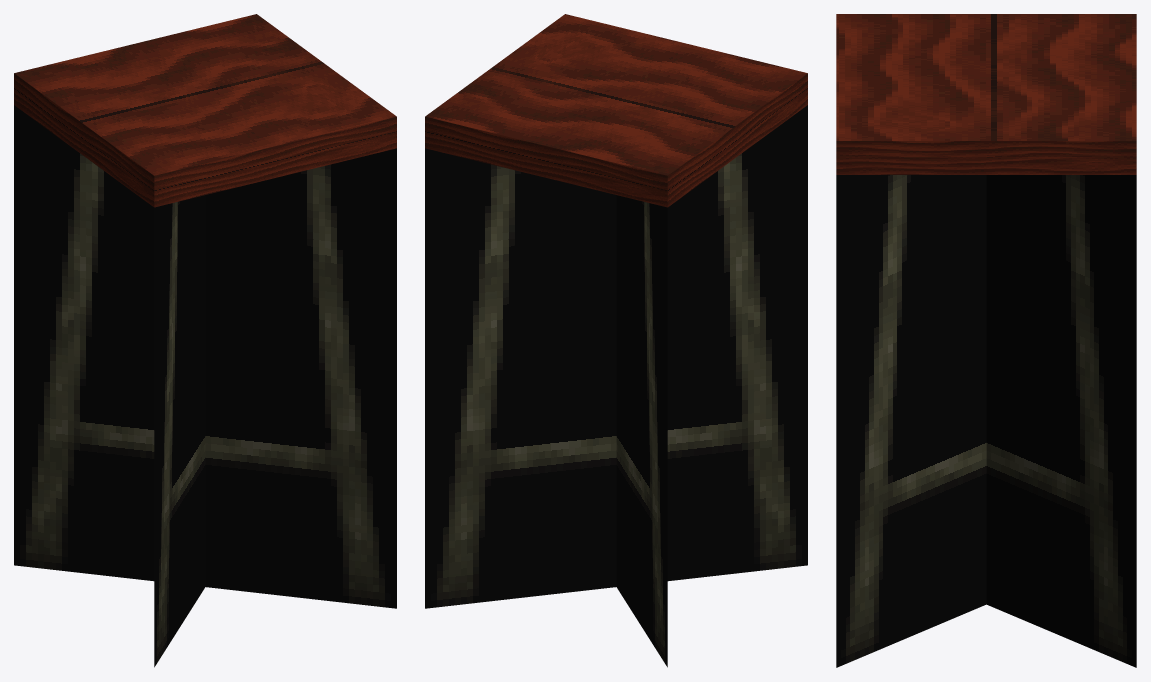
Rendered from prop_stool-2.glb.
3 views of the same model, side by side, from view 1: azimuth 30°, elevation 25°; view 2: azimuth 150°, elevation 25°; view 3: azimuth 270°, elevation 25° (orthographic). The views are drawn at different scales.
Parts seen in each view (by area): view 1: prop_stool-2; view 2: prop_stool-2; view 3: prop_stool-2.
Boxes of the visible parts, x1,y1,x2,y2 form: prop_stool-2: [14, 14, 396, 667]; prop_stool-2: [425, 14, 807, 667]; prop_stool-2: [836, 14, 1136, 667].
Bounding box in the file's own units: 0.32 × 0.62 × 0.32.
2 materials, 2 textured.
